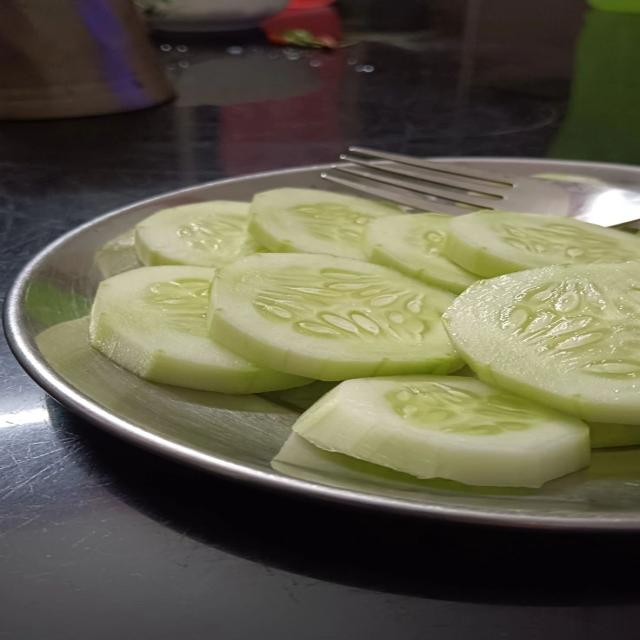cucumber sliced: (294, 376, 589, 486), (210, 254, 461, 380), (444, 263, 639, 424), (90, 266, 309, 393), (443, 211, 639, 277), (250, 188, 398, 260), (363, 213, 478, 293), (136, 201, 263, 267), (94, 229, 141, 278), (264, 381, 338, 410), (587, 423, 639, 448), (588, 423, 639, 448), (532, 174, 606, 185)
